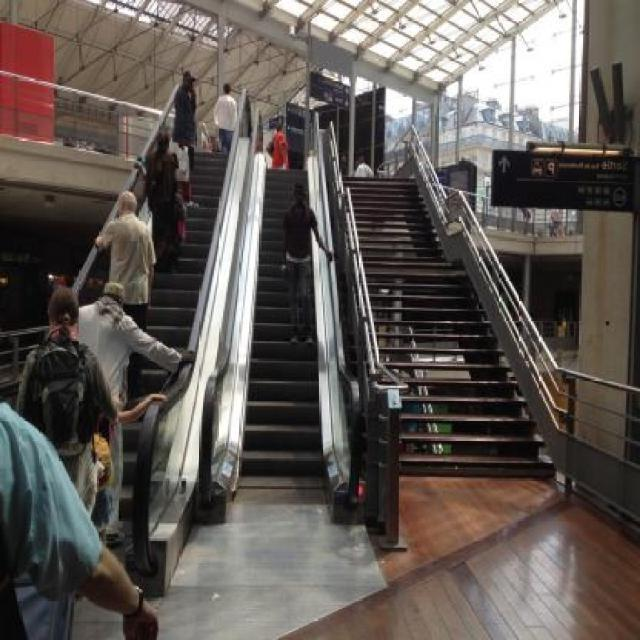stair: (338, 171, 564, 480), (120, 148, 228, 517), (236, 163, 330, 466)
